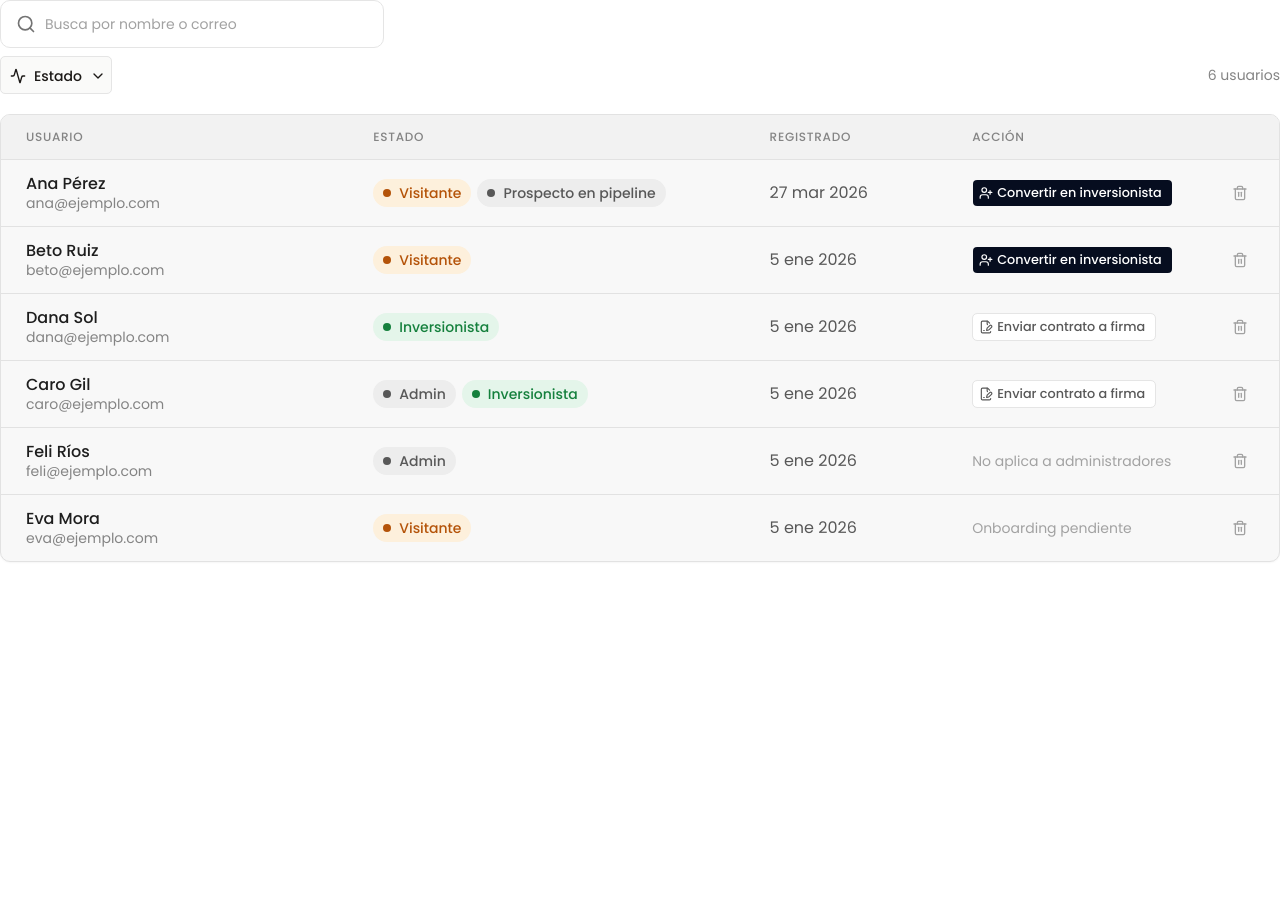
Test: sending the contract › will not submit without a file
This screenshot has width=1280, height=900.
Click the button "Enviar contrato a firma" in the row of "Dana Sol": (1064, 327) [972,313,1156,341]
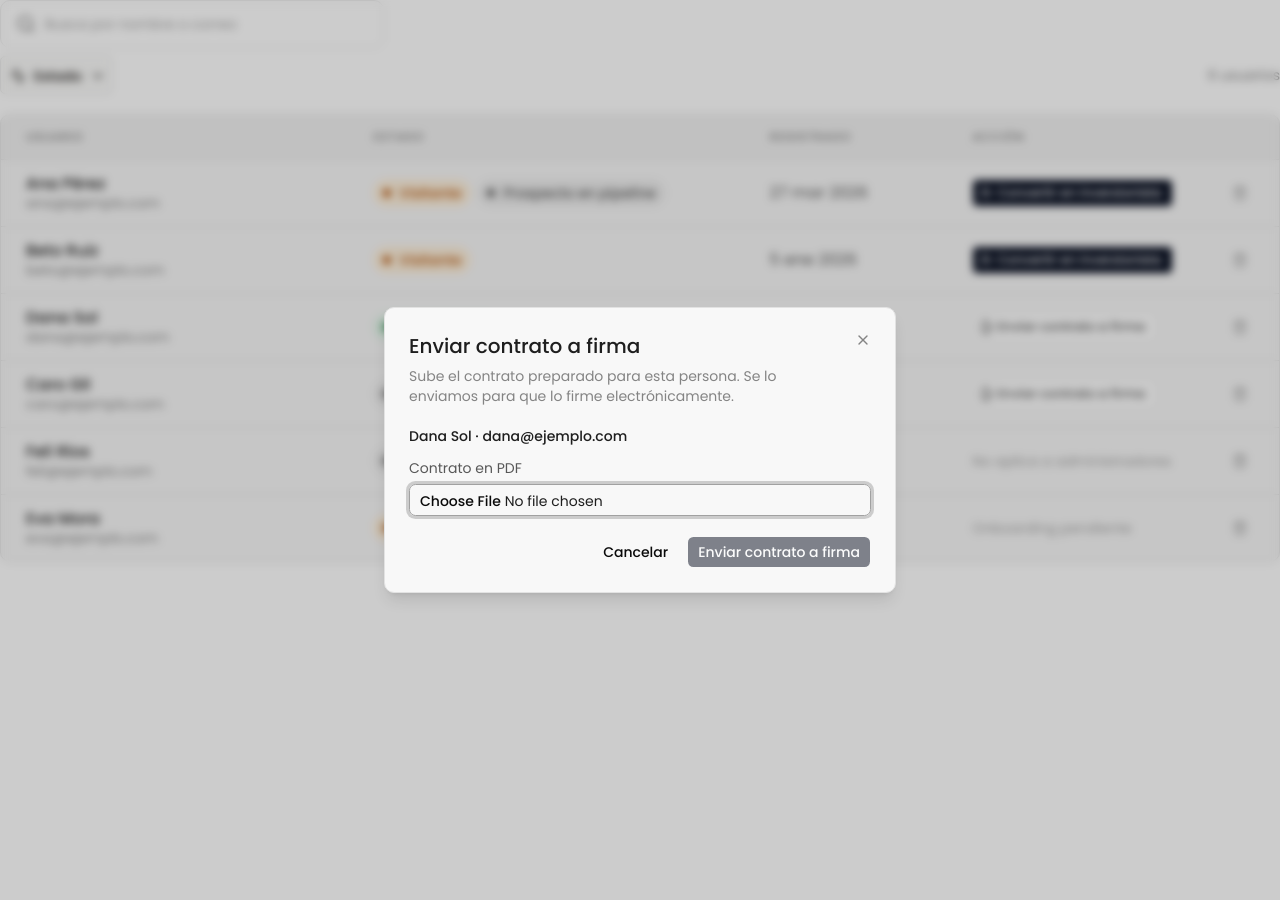
Expected: the button "Enviar contrato a firma" is disabled, [687,536,871,568]
